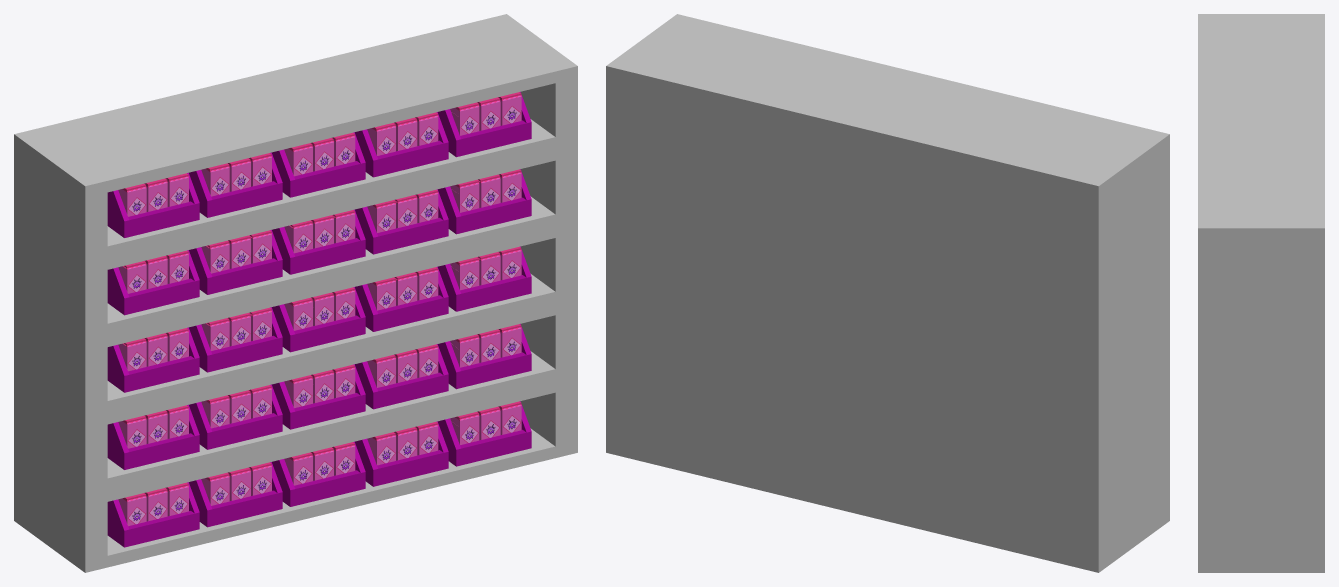
File: Evelmart_Shelf_Psychic (1).fbx
3 views of the same model, side by side, from view 1: azimuth 30°, elevation 25°; view 2: azimuth 150°, elevation 25°; view 3: azimuth 270°, elevation 25° (orthographic). The views are drawn at different scales.
Parts seen in each view (by area): view 1: Psychic; view 2: Psychic; view 3: Psychic.
Part boxes in pixels (x1=…): Psychic: x1=14, y1=14, x2=577, y2=572; Psychic: x1=606, y1=14, x2=1169, y2=572; Psychic: x1=1198, y1=14, x2=1324, y2=572.
Size of the model in its own units: 805 by 604 by 201.
